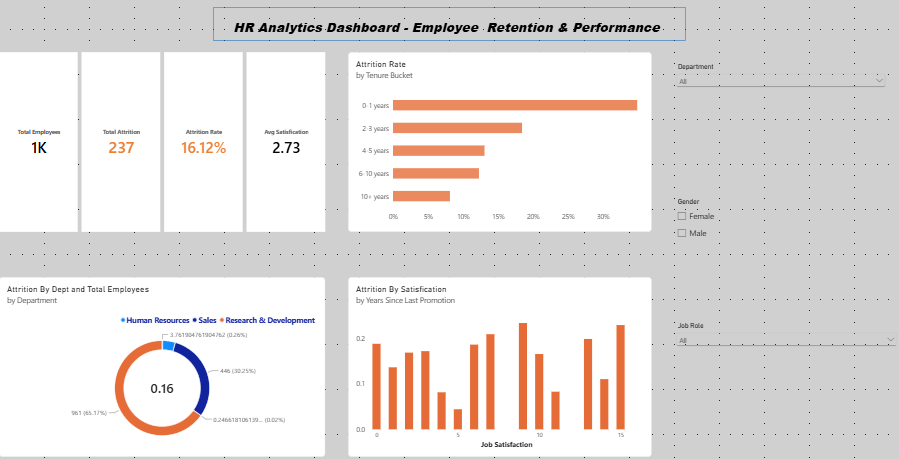

This screenshot's page, from the dashboard's own definition file:
{"tool":"powerbi","page":{"name":"Executive Summary","canvas":[1920,1080],"ordinal":0},"visuals":[{"type":"textbox","box":[24,72,1872,48],"z":0},{"type":"cardVisual","fields":{"Data":["Fact_HR.Total Employees","Fact_HR.Total Attrition","Fact_HR.Attrition Rate","Fact_HR.Avg  Satisfication"]},"box":[0,144,696,384],"z":1},{"type":"donutChart","fields":{"Category":["Dim_Employee.Department"],"Y":["Fact_HR.Attrition By Dept","Fact_HR.Total Employees"]},"box":[0,624,696,384],"z":2},{"type":"clusteredBarChart","fields":{"Category":["Fact_HR.Tenure Bucket"],"Y":["Fact_HR.Attrition Rate"]},"box":[744,144,648,384],"z":3},{"type":"columnChart","fields":{"Category":["Fact_HR.Years Since Last Promotion"],"Y":["Fact_HR.Attrition By Satisfication"]},"box":[744,624,648,384],"z":4},{"type":"shape","box":[456,48,1056,72],"z":6},{"type":"shape","box":[456,48,1008,72],"z":7},{"type":"slicer","fields":{"Values":["Dim_Employee.Gender"]},"box":[1440,456,456,216],"z":8},{"type":"slicer","fields":{"Values":["Dim_Employee.Job Role"]},"box":[1440,720,480,216],"z":9},{"type":"slicer","fields":{"Values":["Dim_Employee.Department"]},"box":[1440,168,456,216],"z":10}]}

Visuals, with their boxes on the page's 1920x1080 design canvas (x1, y1, x2, y2). These are canvas units, not pixel positions in the 899x459 screenshot, which may show the page scaled, cropped or inside an application window:
textbox: rect(24, 72, 1896, 120)
cardVisual - Fact_HR.Total Employees x Fact_HR.Total Attrition: rect(0, 144, 696, 528)
donutChart - Dim_Employee.Department x Fact_HR.Attrition By Dept: rect(0, 624, 696, 1008)
clusteredBarChart - Fact_HR.Tenure Bucket x Fact_HR.Attrition Rate: rect(744, 144, 1392, 528)
columnChart - Fact_HR.Years Since Last Promotion x Fact_HR.Attrition By Satisfication: rect(744, 624, 1392, 1008)
shape: rect(456, 48, 1512, 120)
shape: rect(456, 48, 1464, 120)
slicer - Dim_Employee.Gender: rect(1440, 456, 1896, 672)
slicer - Dim_Employee.Job Role: rect(1440, 720, 1920, 936)
slicer - Dim_Employee.Department: rect(1440, 168, 1896, 384)
